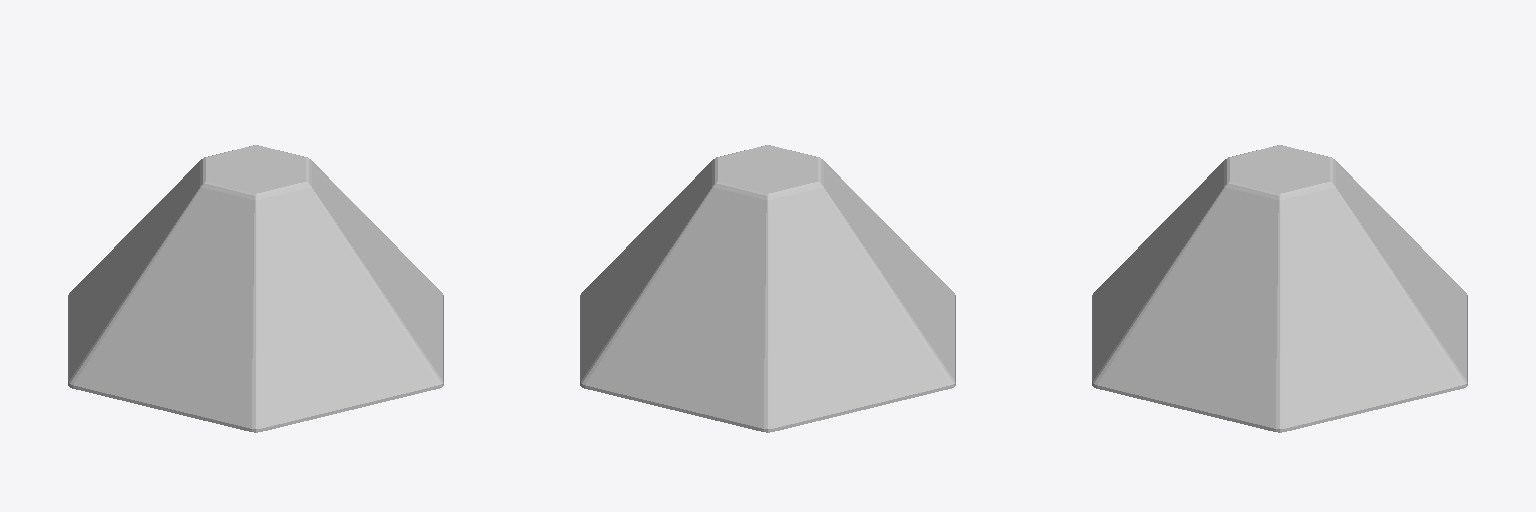
Rendered from windmillCap.obj.
3 views of the same model, side by side, from view 1: azimuth 30°, elevation 25°; view 2: azimuth 150°, elevation 25°; view 3: azimuth 270°, elevation 25° (orthographic).
Parts seen in each view (by area): view 1: pCylinder2; view 2: pCylinder2; view 3: pCylinder2.
Part boxes in pixels (x1,y1,x2,y2): pCylinder2: (68,145,443,432); pCylinder2: (580,145,955,432); pCylinder2: (1092,145,1467,432).
Bounding box in the file's own units: 3.22 × 1.43 × 2.8.